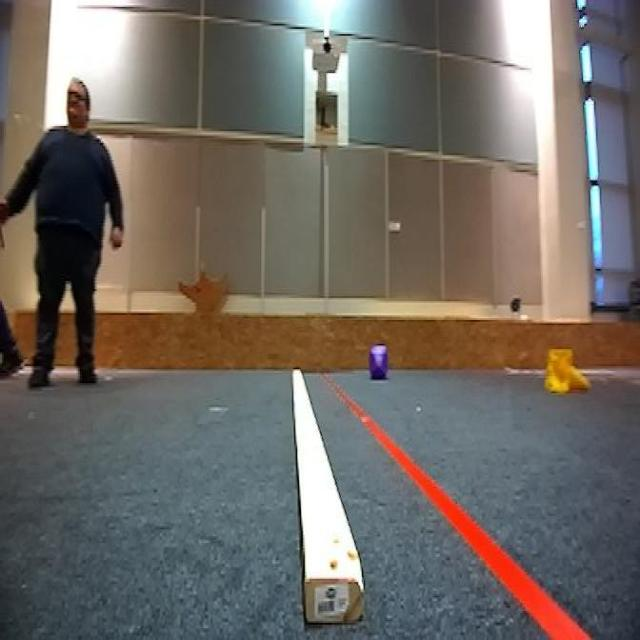frc_cone: (542, 344, 590, 396)
frc_cube: (368, 342, 392, 380)
